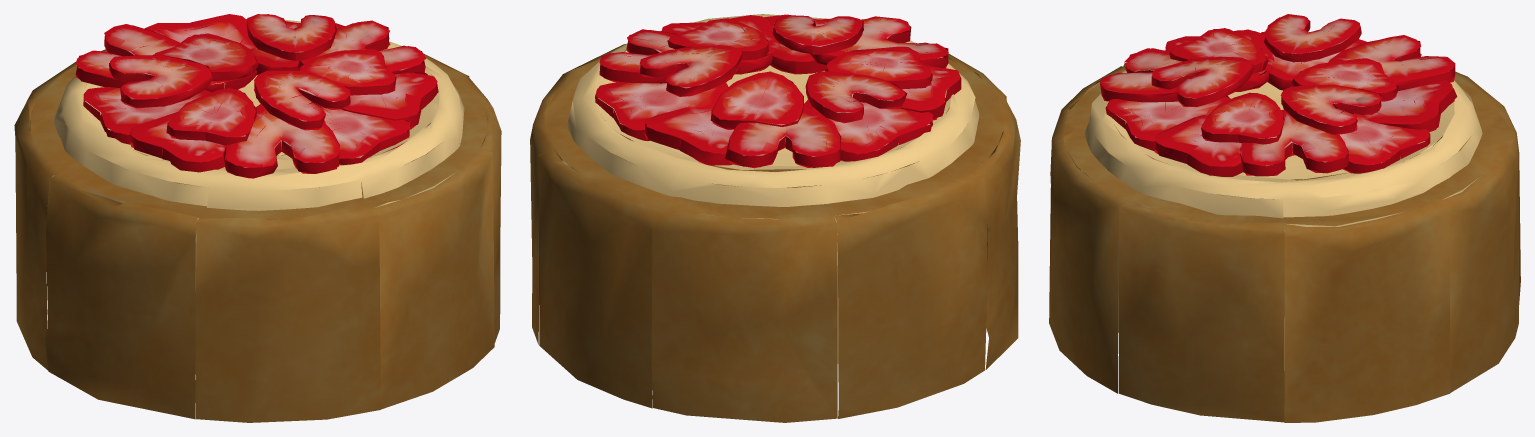
File: Tart.006_LOD0.fbx
3 renders of one model, left to right at view 1: azimuth 30°, elevation 25°; view 2: azimuth 150°, elevation 25°; view 3: azimuth 270°, elevation 25°, orthographic. The views are drawn at different scales.
Parts seen in each view (by area): view 1: Tart_006_Tart_006_0; view 2: Tart_006_Tart_006_0; view 3: Tart_006_Tart_006_0.
Part boxes in pixels (x1=…): Tart_006_Tart_006_0: x1=14, y1=14, x2=501, y2=422; Tart_006_Tart_006_0: x1=530, y1=14, x2=1020, y2=422; Tart_006_Tart_006_0: x1=1049, y1=14, x2=1520, y2=422.
Bounding box in the file's own units: 54.13 × 32.19 × 53.99.
